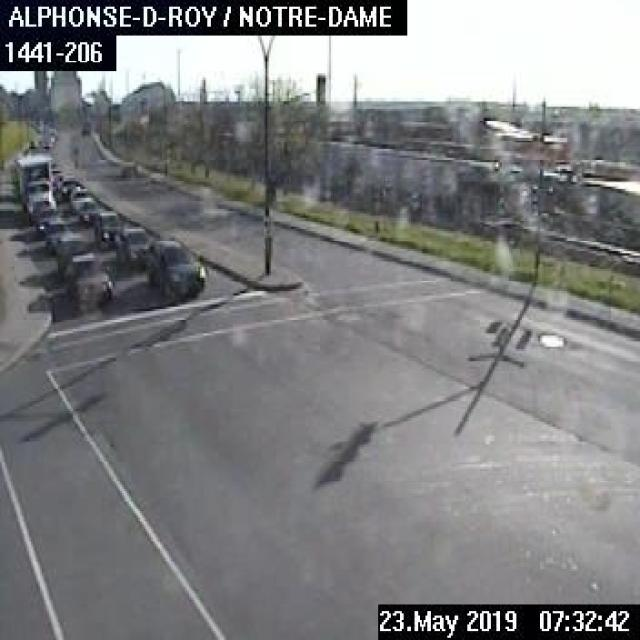vehicle: (141, 236, 206, 304), (60, 250, 113, 315), (14, 153, 56, 217), (114, 225, 152, 271), (56, 231, 89, 270), (93, 208, 119, 250), (42, 218, 71, 252), (67, 184, 91, 209), (77, 197, 97, 222), (58, 174, 79, 196)
